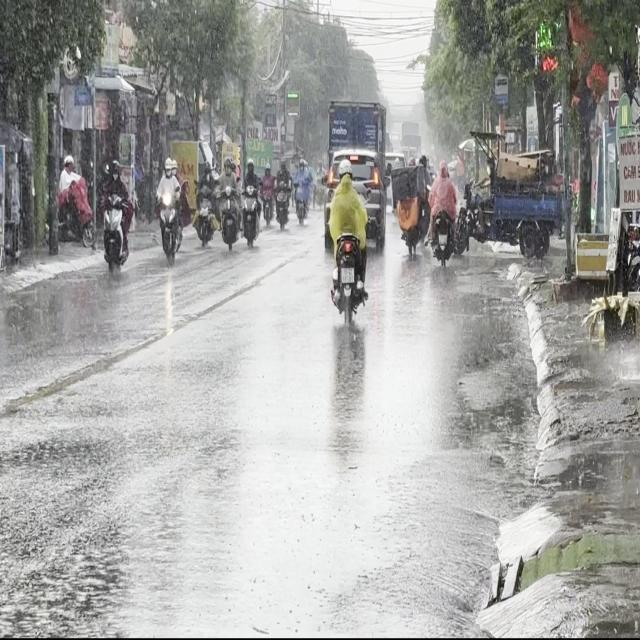helmet: (337, 157, 352, 182)
licenseplate: (324, 156, 369, 325)
nohelmet: (341, 266, 354, 282)
